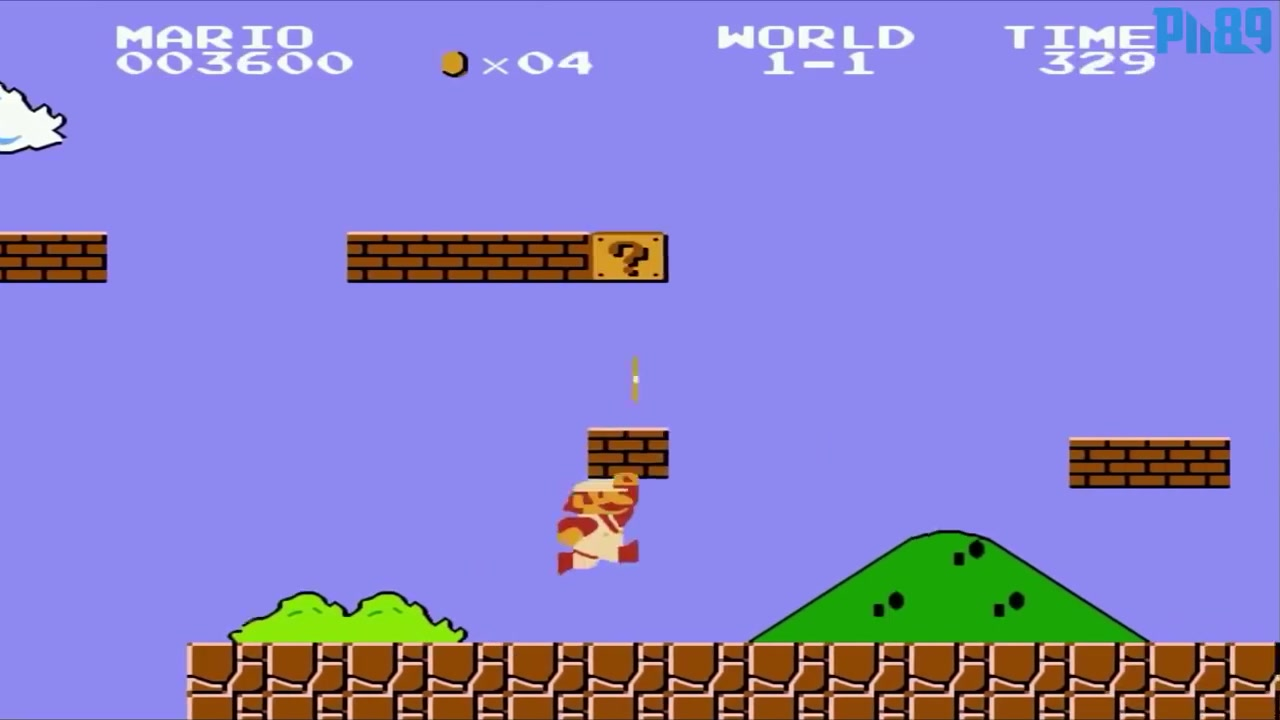mario: (555, 476, 643, 578)
